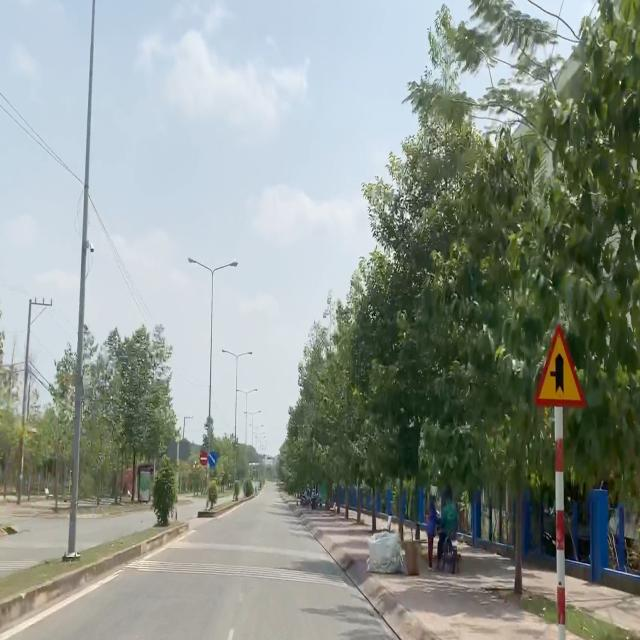Cam nguoc chieu: (199, 451, 208, 466)
Giao voi duong khong uu tien: (532, 323, 588, 409)
Hieu lenh: (208, 452, 217, 467)
